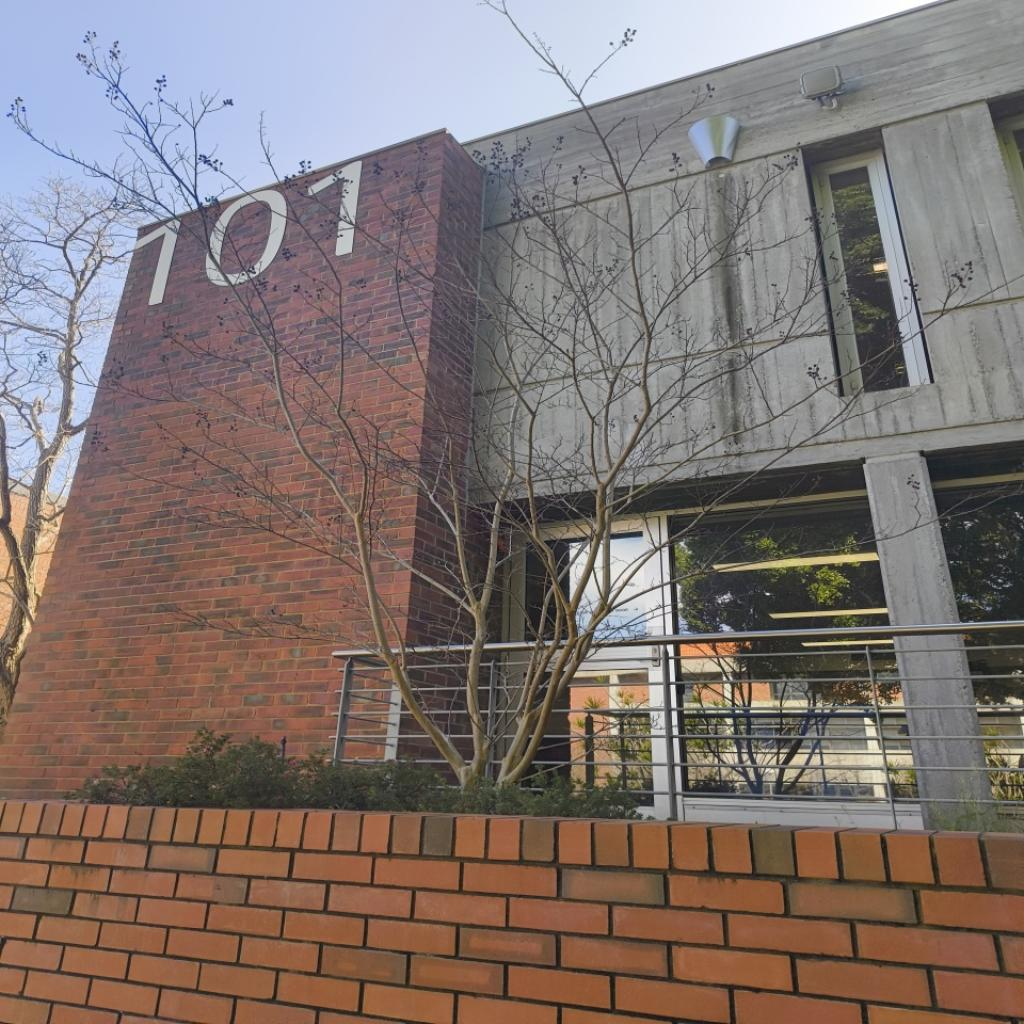BuildingCodes: (125, 152, 371, 312)
